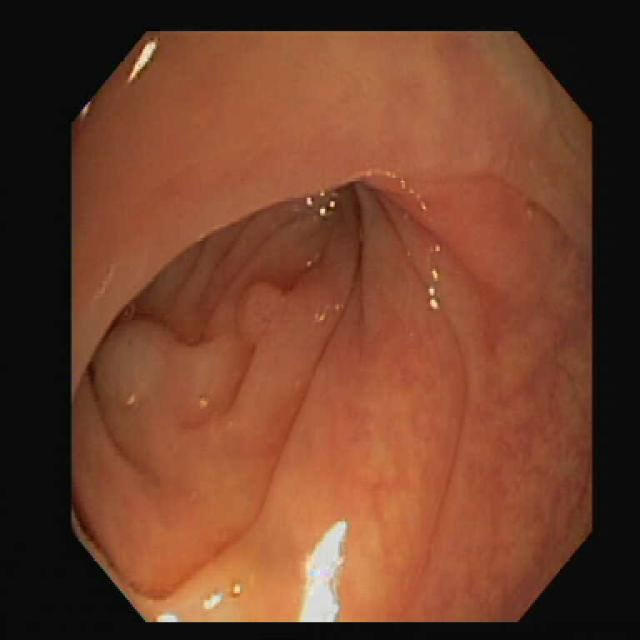tumor: (93, 318, 157, 404), (238, 282, 315, 340)
